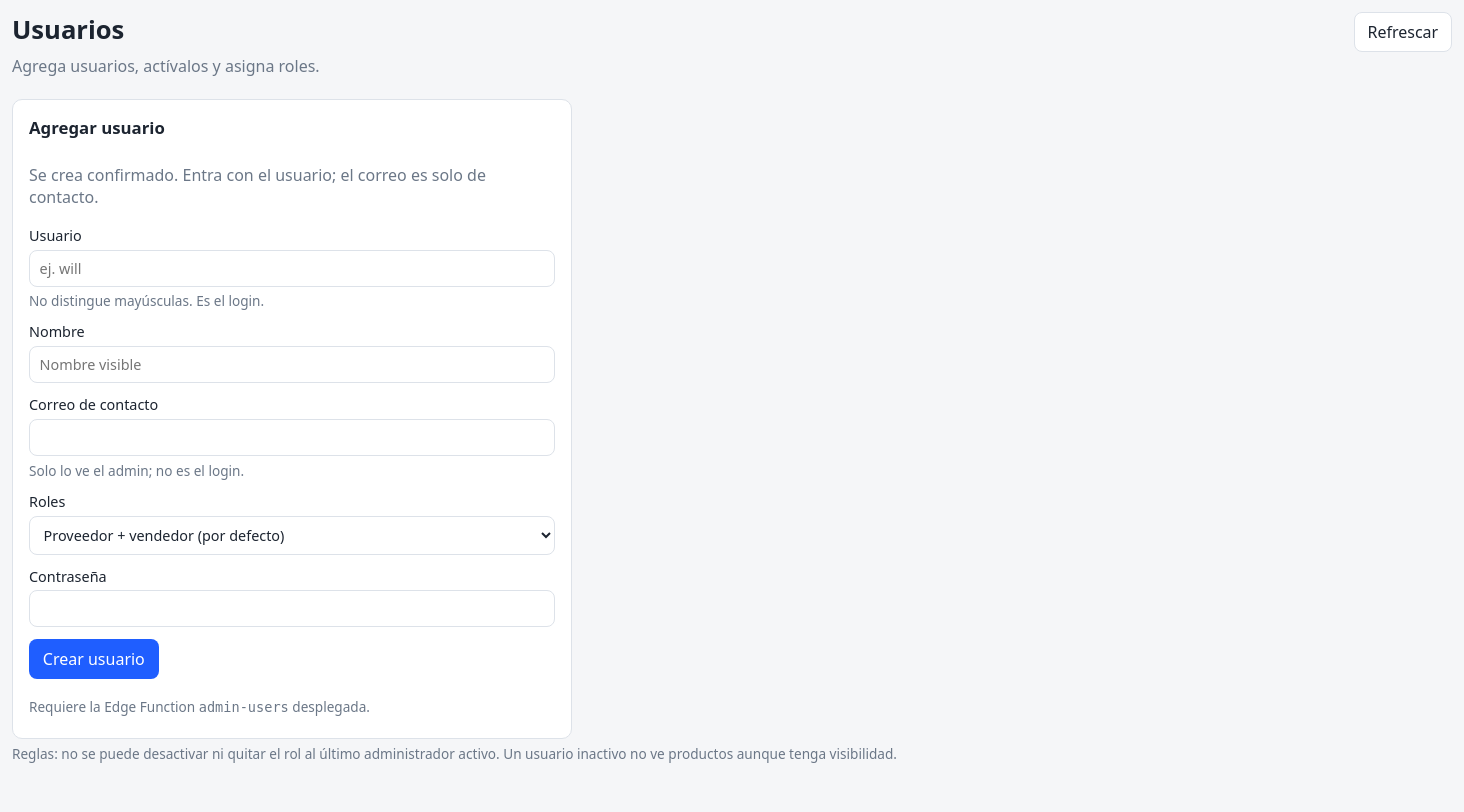
AdminUsuarios.crearUsuario › crea el usuario con correo interno y guarda el correo de contacto
Expected: the heading "Agregar usuario" is shown, [29,116,165,139]
Type "will2" into the field labelled "Usuario No distingue mayúsculas. Es el login.". click: (292, 268)
box: [29,250,555,287]
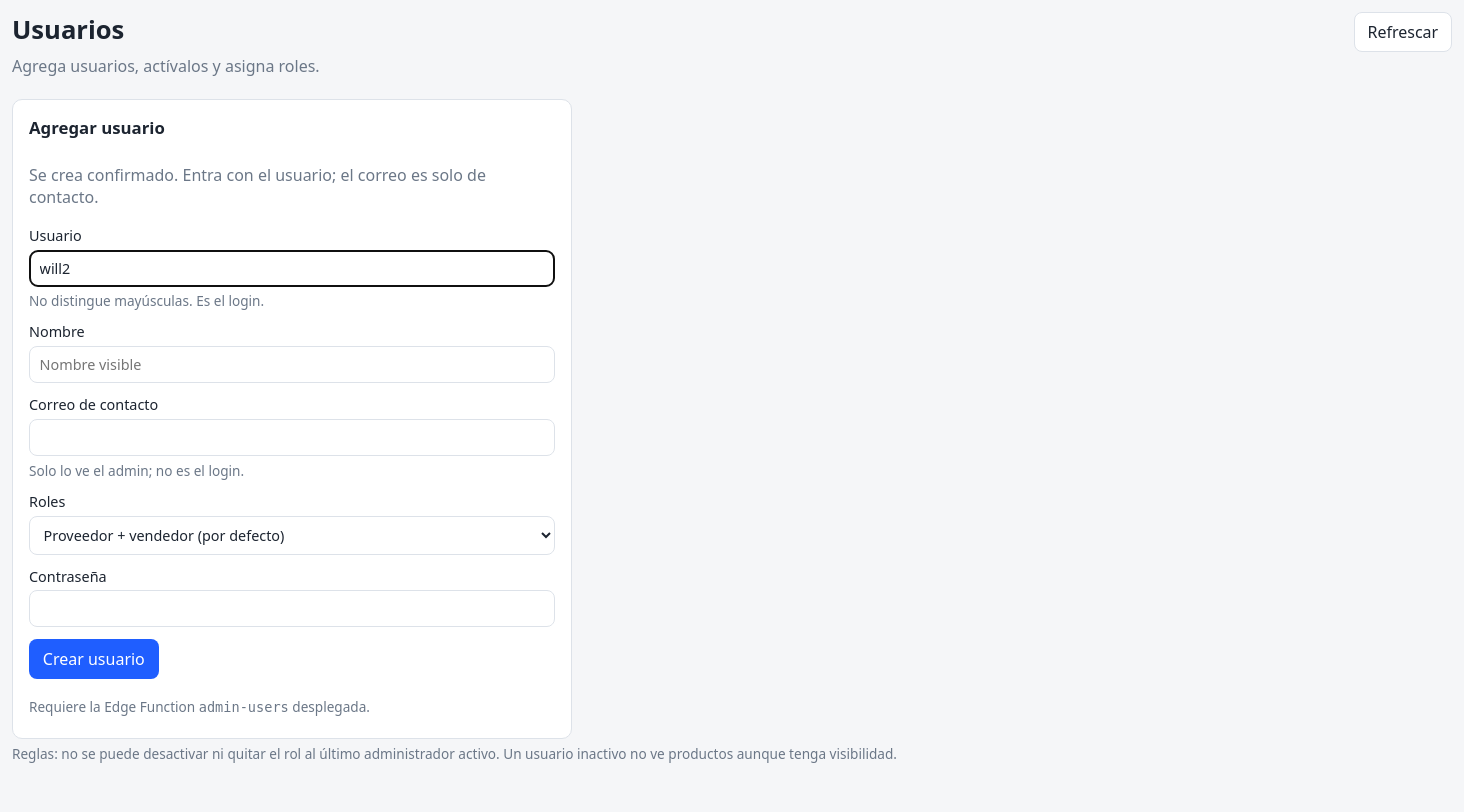
Type "Will Dos" into the field labelled "Nombre". click: (292, 365)
box: [29,346,555,383]
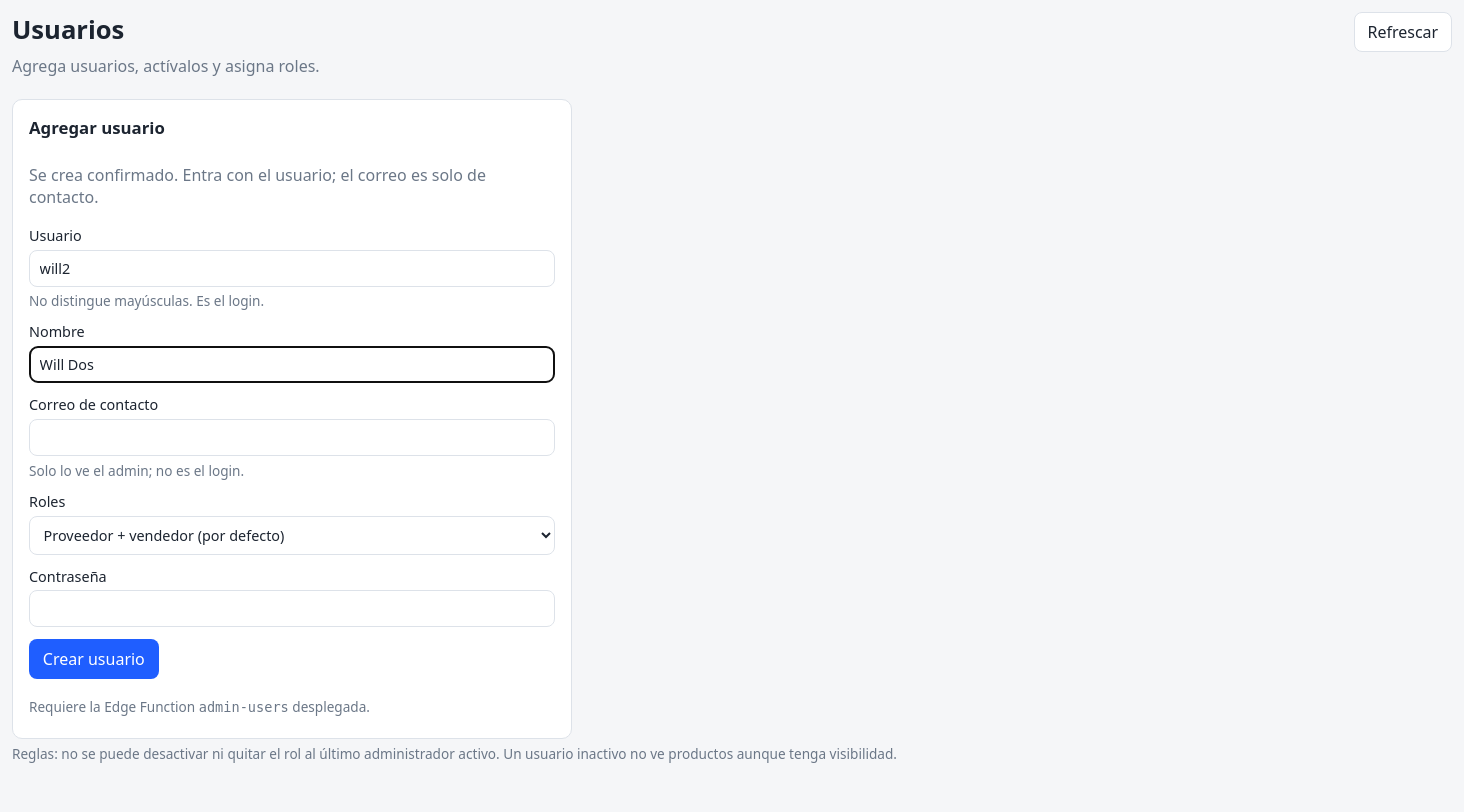
Type "will2@example.com" into the field labelled "Correo de contacto Solo lo ve el admin; no es el login.". click: (292, 438)
box: [29,419,555,456]
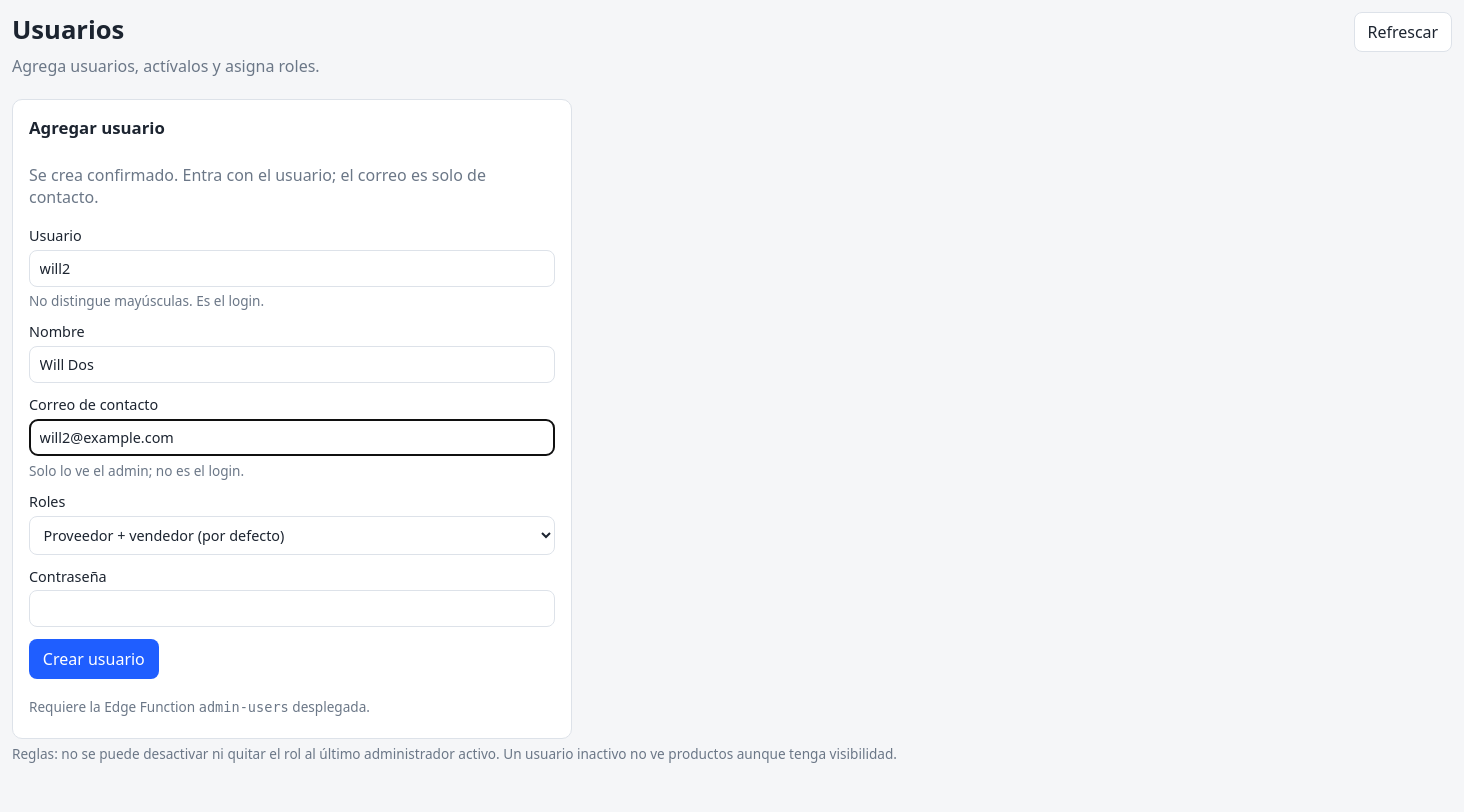
Type "Secreta123" into the password field labelled "Contraseña". click: (292, 609)
box: [29,590,555,627]
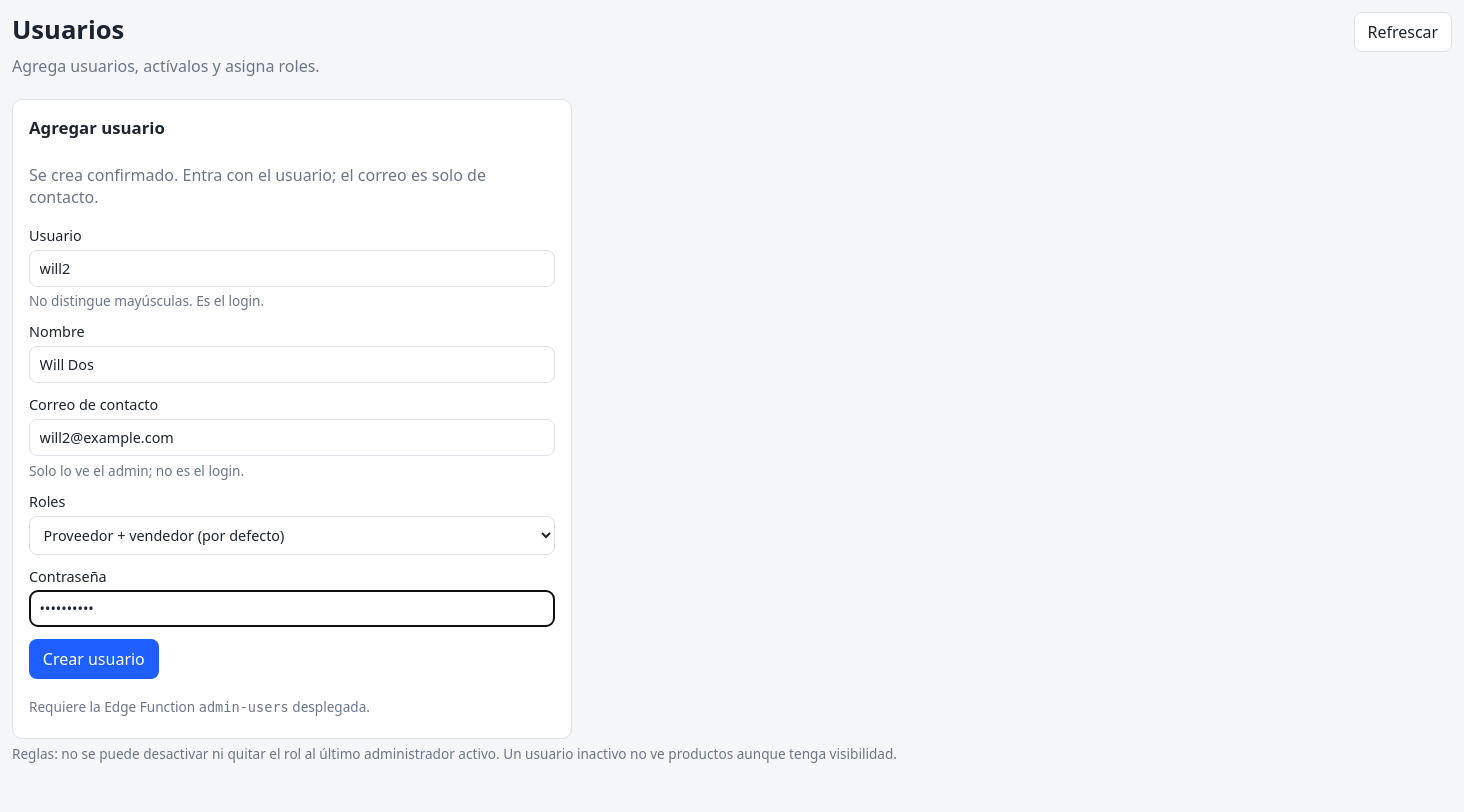
Click the button "Crear usuario". click: click(94, 659)
box: [29,639,159,679]
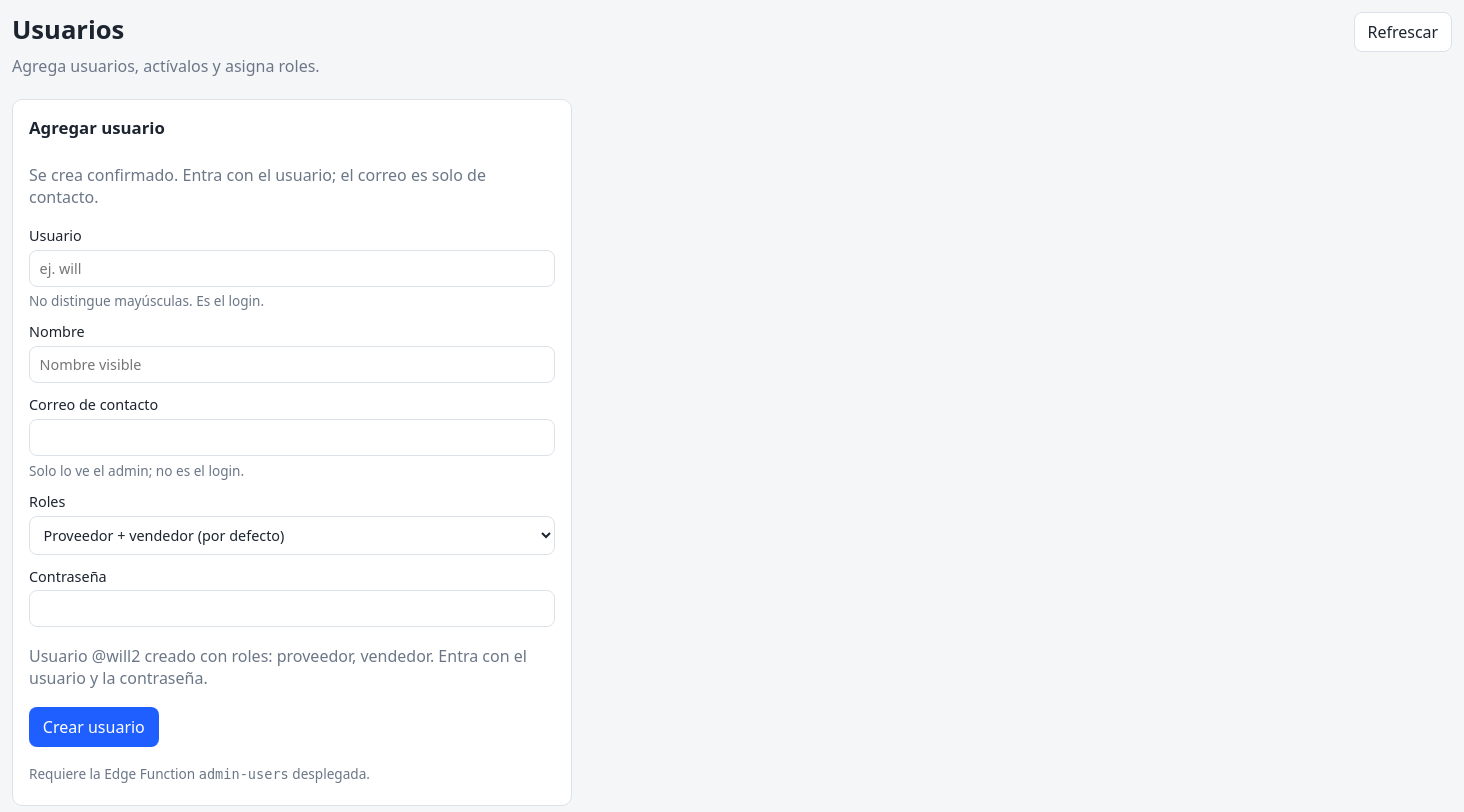
Expected: the text "Usuario @will2 creado con roles: proveedor, vendedor" is shown, [29,645,527,689]
